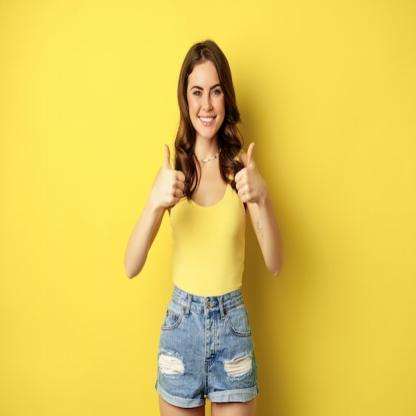thumb_up: (152, 142, 186, 211), (232, 140, 266, 204)
